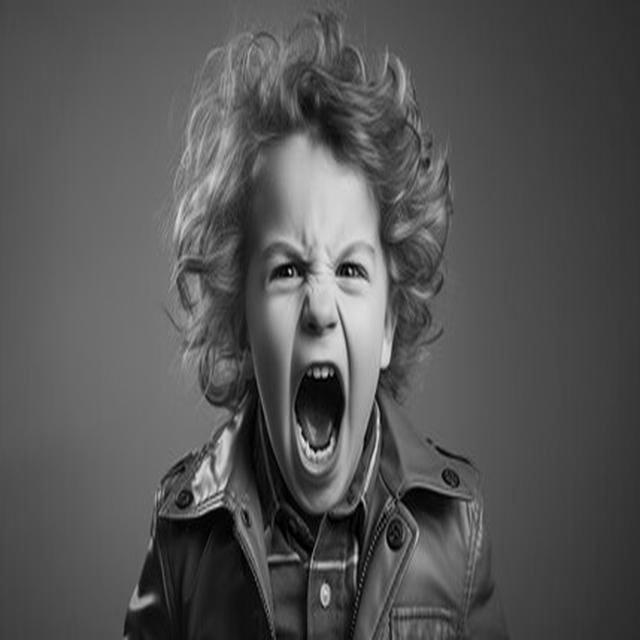Angry: (245, 141, 388, 514)
